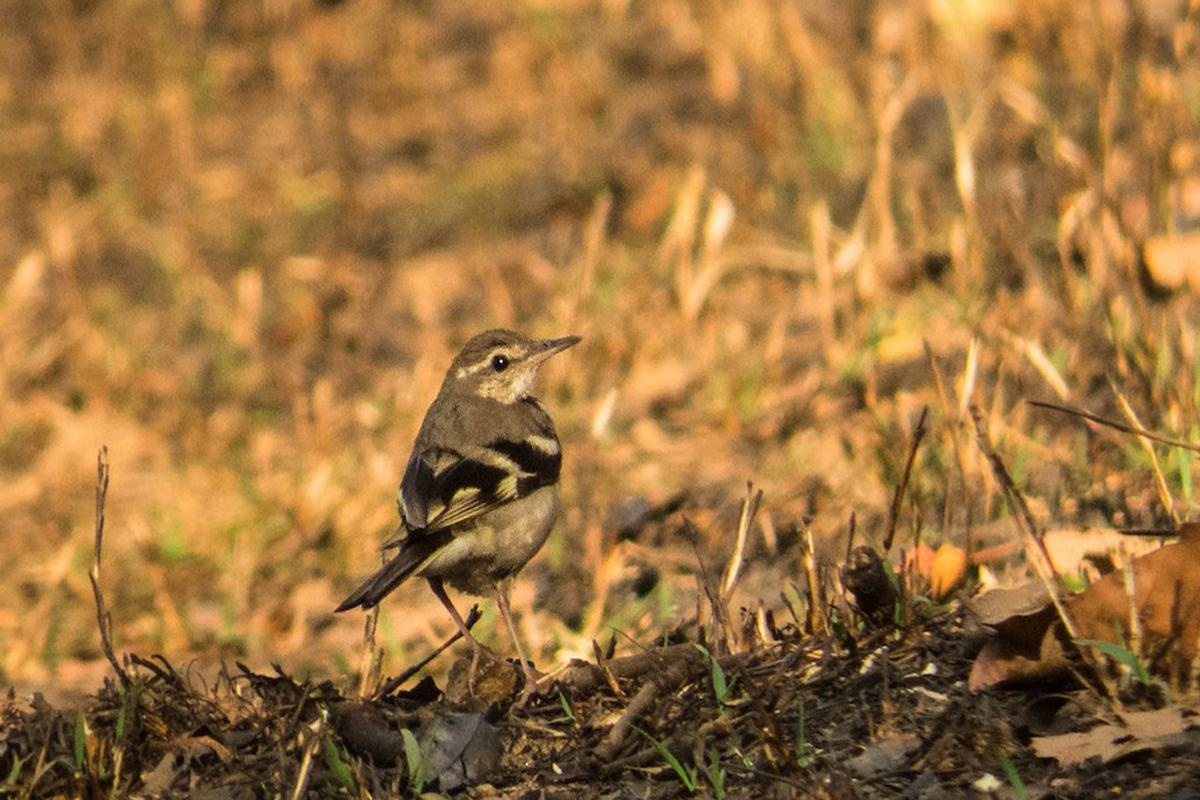wagtail: (384, 323, 580, 624)
